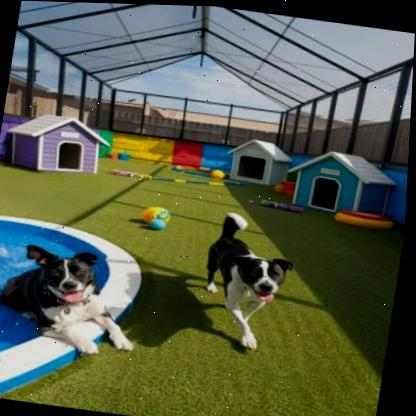dog: (0, 234, 155, 367), (178, 206, 306, 363)
